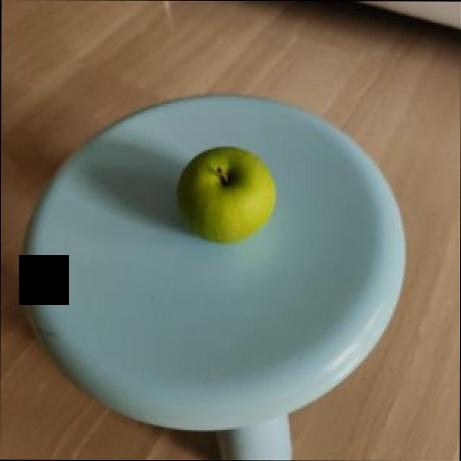green apple: (177, 144, 278, 240)
